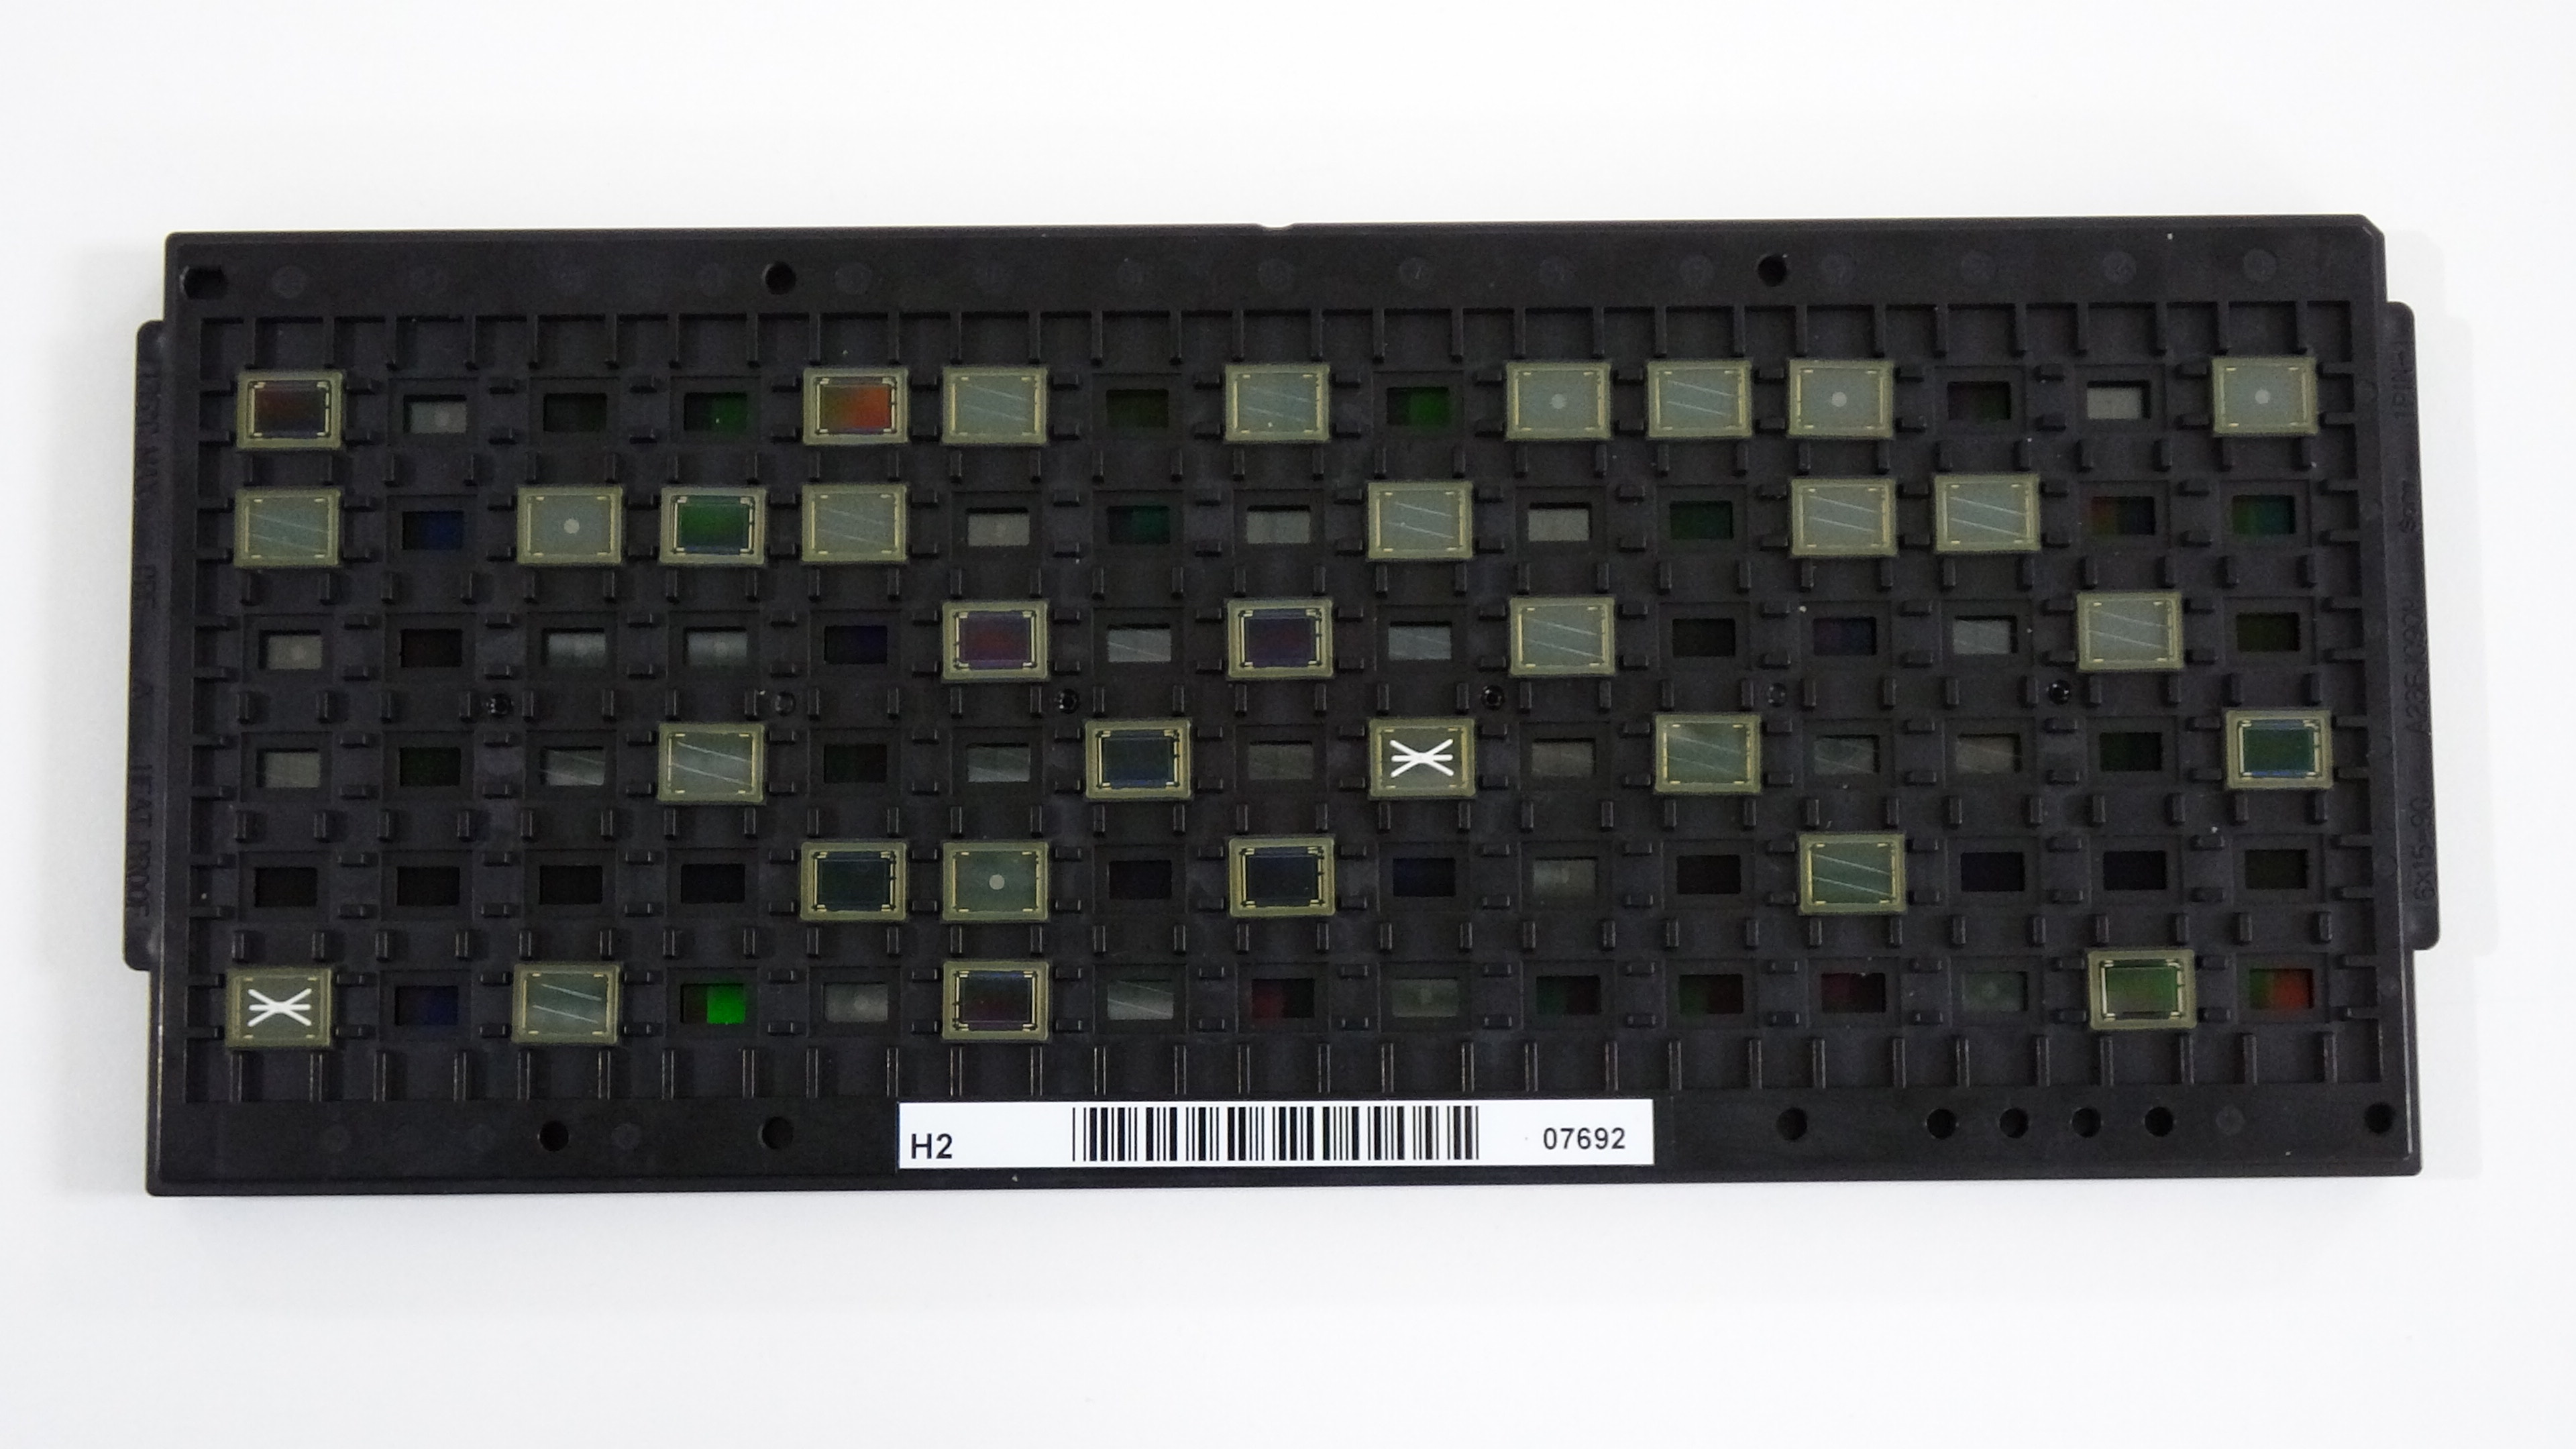Bad_mark_from_BMS_mold: (1796, 830, 1909, 915), (1654, 711, 1762, 796), (653, 720, 766, 800), (1507, 594, 1615, 678), (798, 483, 909, 563), (508, 959, 619, 1039), (1645, 357, 1753, 439), (2075, 589, 2185, 669), (232, 487, 340, 566), (1223, 363, 1327, 442), (1932, 474, 2043, 548), (943, 364, 1046, 444), (1794, 478, 1897, 556), (1371, 481, 1472, 557)
Bad_mark_from_CDB: (225, 966, 333, 1049), (1366, 717, 1477, 796)
Bad_mark_from_Maker: (513, 483, 623, 566), (938, 839, 1047, 920), (2208, 352, 2318, 433), (1504, 361, 1608, 442), (1785, 356, 1891, 435)
